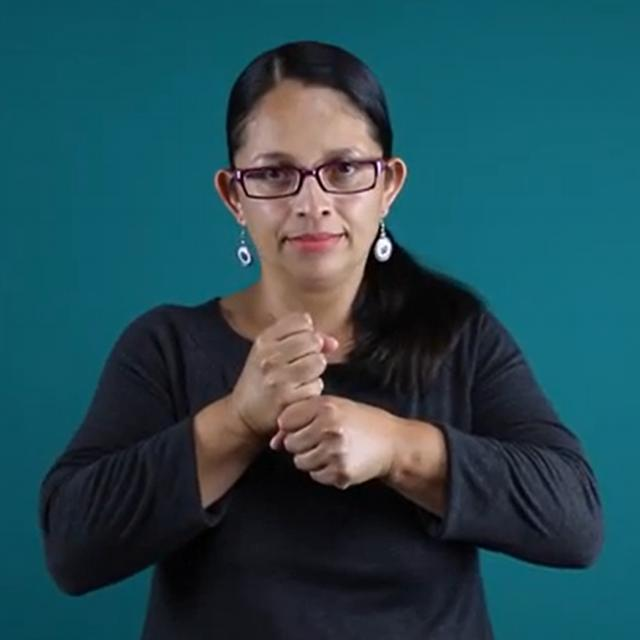get: (234, 313, 394, 489)
